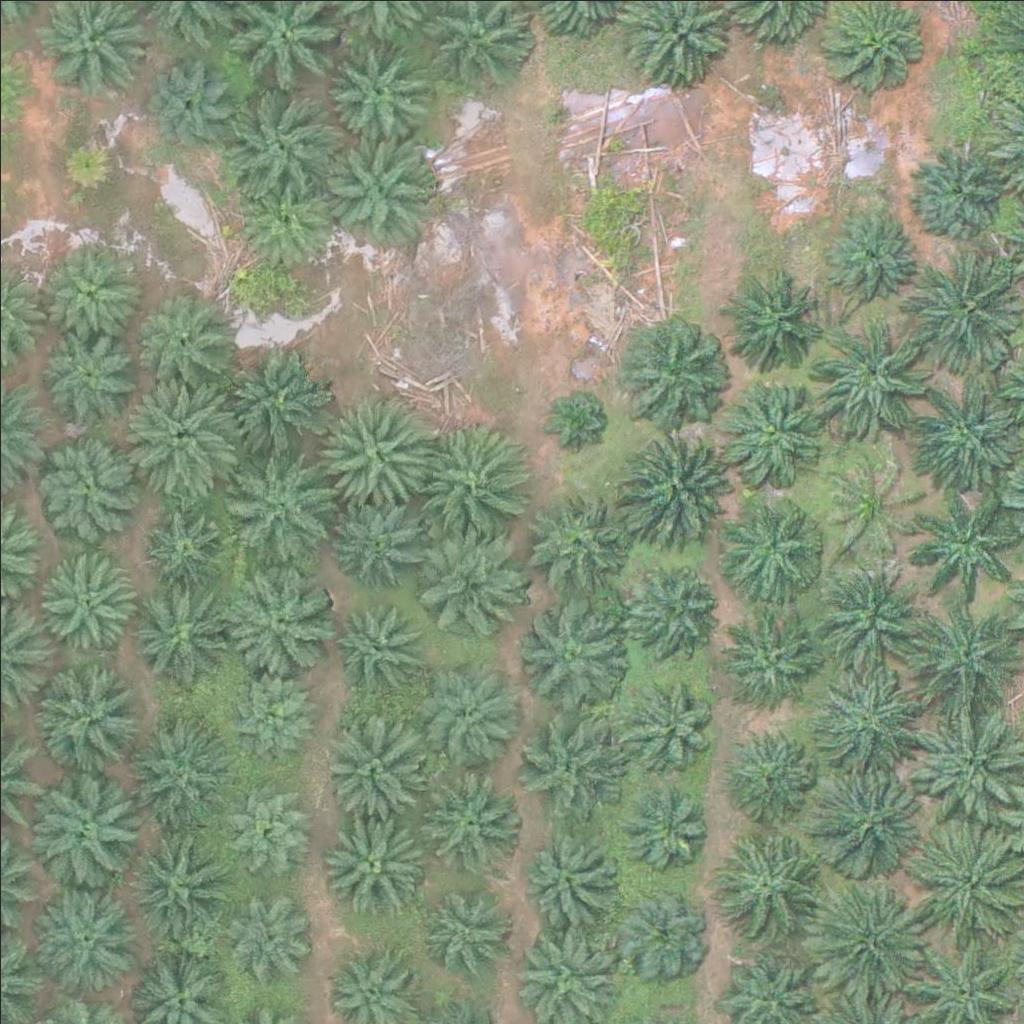Kelapa_Sawit: (907, 250, 1020, 364), (36, 765, 149, 878), (228, 460, 341, 573), (215, 343, 328, 456), (321, 396, 434, 509), (416, 655, 529, 768), (416, 536, 529, 649), (424, 422, 537, 535), (321, 127, 434, 240), (519, 595, 632, 708), (620, 426, 733, 539), (906, 377, 1019, 490), (807, 882, 920, 995), (908, 822, 1021, 935), (226, 561, 338, 675), (416, 761, 528, 875), (713, 375, 825, 489), (812, 664, 924, 778), (811, 551, 923, 665), (122, 829, 234, 943), (804, 767, 916, 881), (39, 660, 151, 773), (121, 712, 233, 825), (124, 572, 236, 685), (124, 384, 236, 497), (313, 709, 425, 822), (221, 87, 333, 200), (513, 712, 625, 825), (619, 310, 731, 423), (815, 321, 927, 434), (910, 490, 1022, 603), (906, 605, 1018, 718), (27, 877, 139, 990), (318, 808, 430, 921), (710, 817, 822, 930), (37, 546, 137, 647), (37, 434, 137, 535), (35, 325, 135, 426), (140, 286, 240, 387), (327, 489, 427, 590), (323, 602, 423, 703), (234, 169, 334, 270), (326, 35, 426, 136), (523, 488, 623, 589), (626, 556, 726, 657), (817, 460, 917, 561), (910, 142, 1010, 243), (413, 873, 513, 974), (613, 881, 713, 982), (35, 240, 135, 340), (724, 270, 824, 370), (720, 599, 820, 699), (727, 498, 827, 598), (821, 197, 921, 297), (517, 827, 617, 927), (144, 501, 232, 589), (227, 671, 315, 759), (139, 62, 227, 150), (627, 682, 715, 770), (730, 728, 818, 816), (219, 886, 307, 974), (624, 785, 712, 873), (225, 781, 312, 869), (538, 385, 613, 460), (59, 129, 122, 192)
